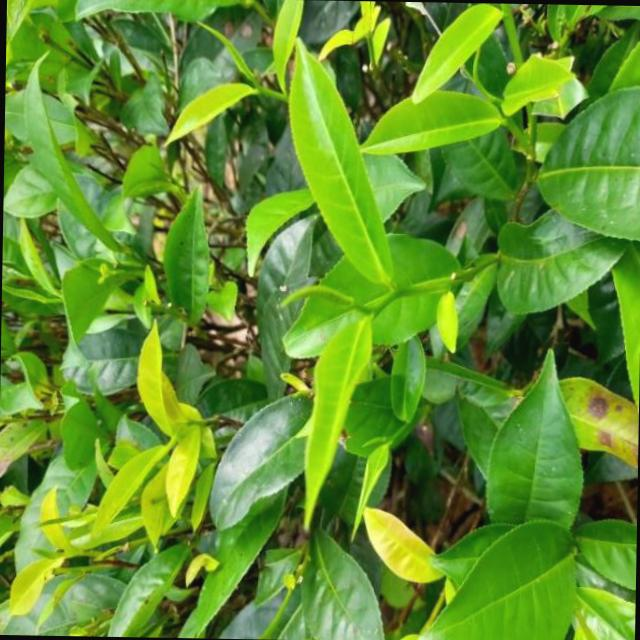Stem: (392, 285, 407, 297)
